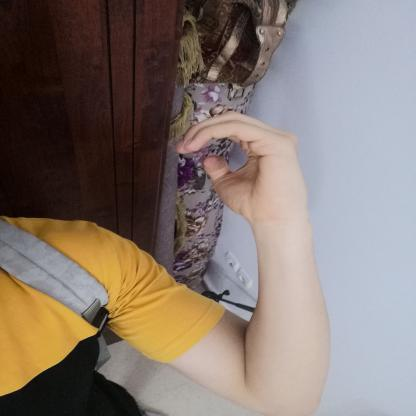JEEM: (161, 103, 324, 233)
